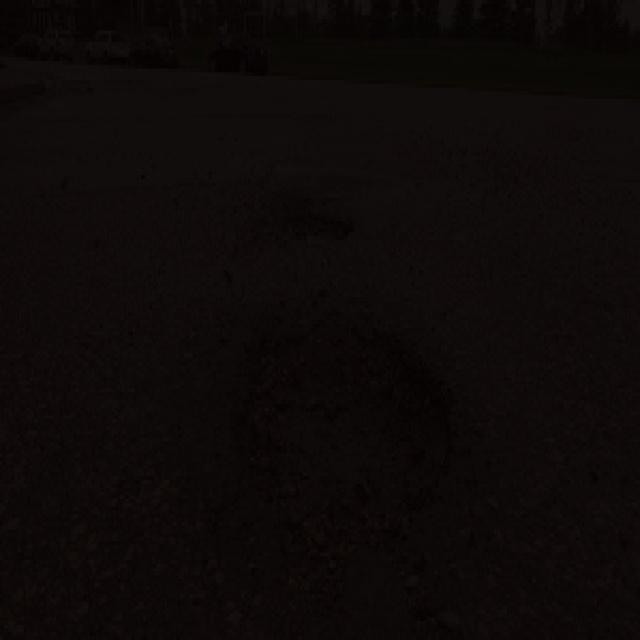Pothole: (229, 305, 462, 549), (262, 187, 365, 254)
